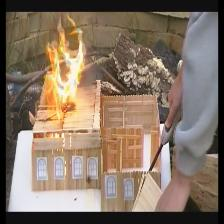fire: (45, 15, 85, 121)
